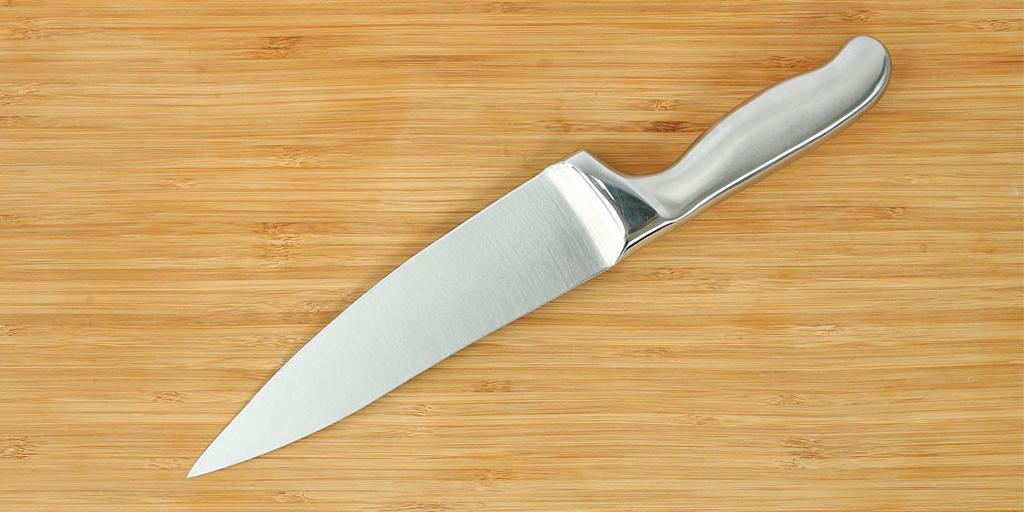knife: (186, 35, 892, 481)
